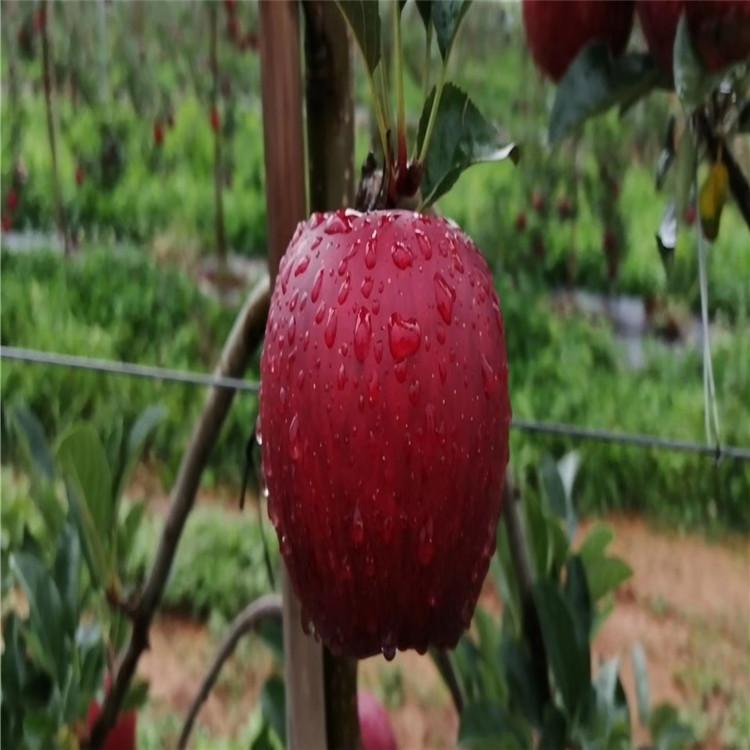apple: (250, 207, 510, 663)
